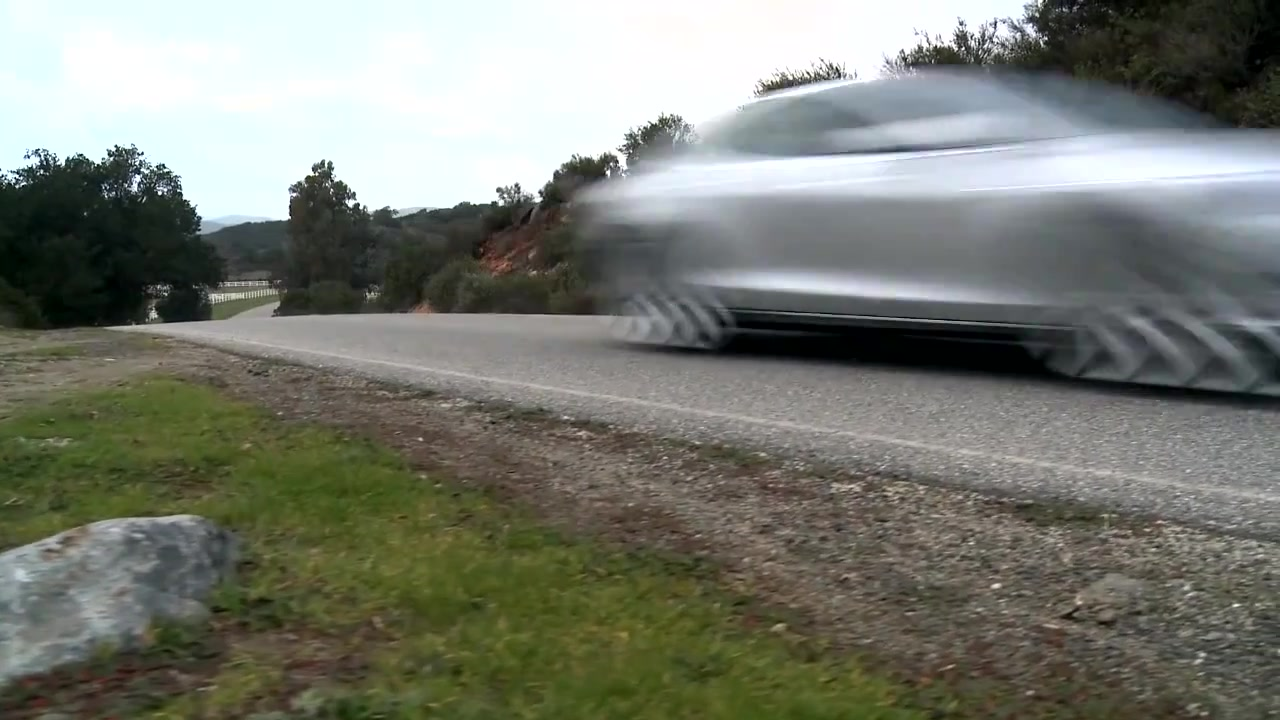car: (557, 62, 1280, 400)
